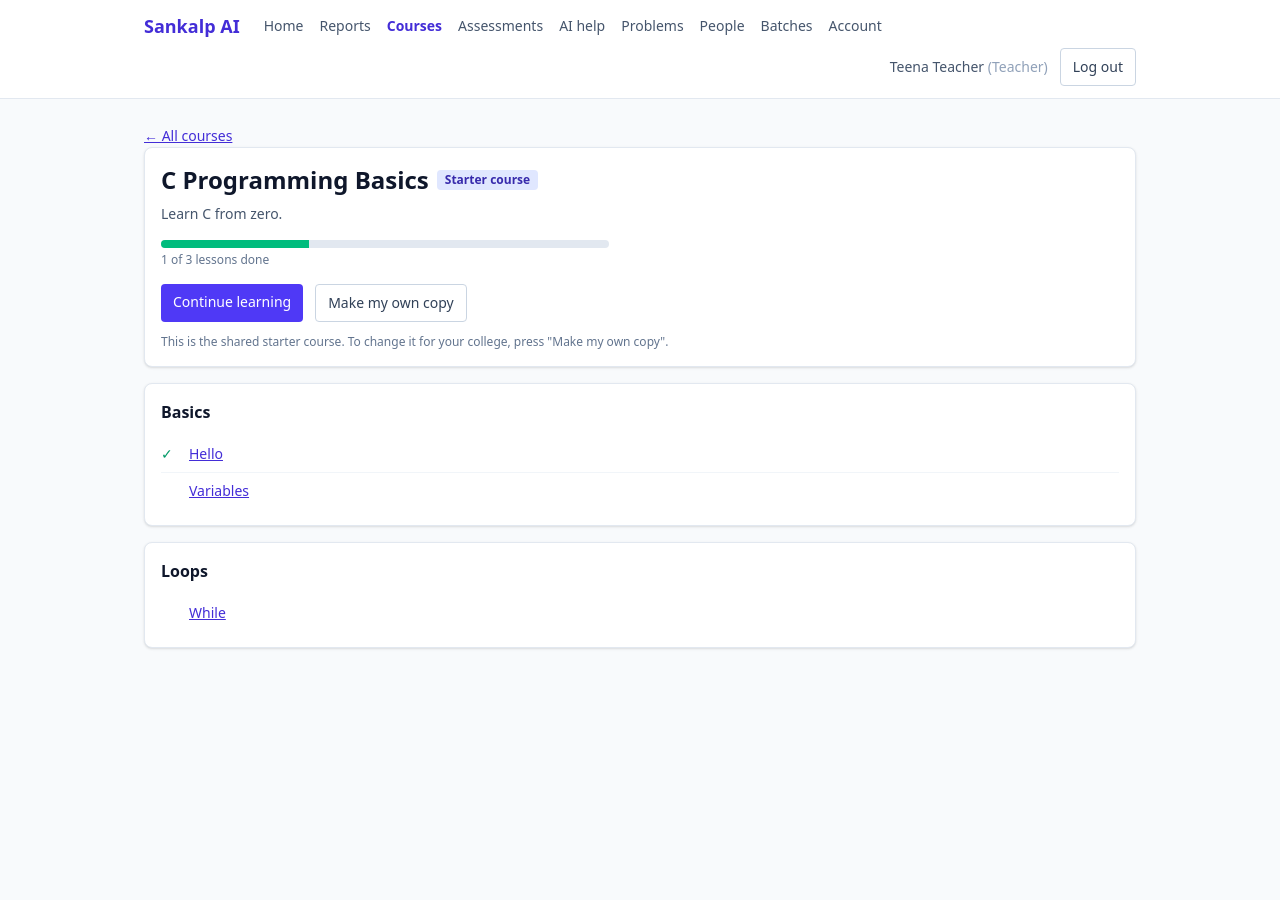
Test: course page › a teacher can copy the shared course and lands in the editor of the copy
Expected: the text "shared starter course" is shown, x1=161 y1=333 x2=668 y2=350
What coordinates should you click on to do the following:
click the button "Make my own copy"
I would click on:
 (391, 303)
Its box is x1=315 y1=284 x2=467 y2=322.
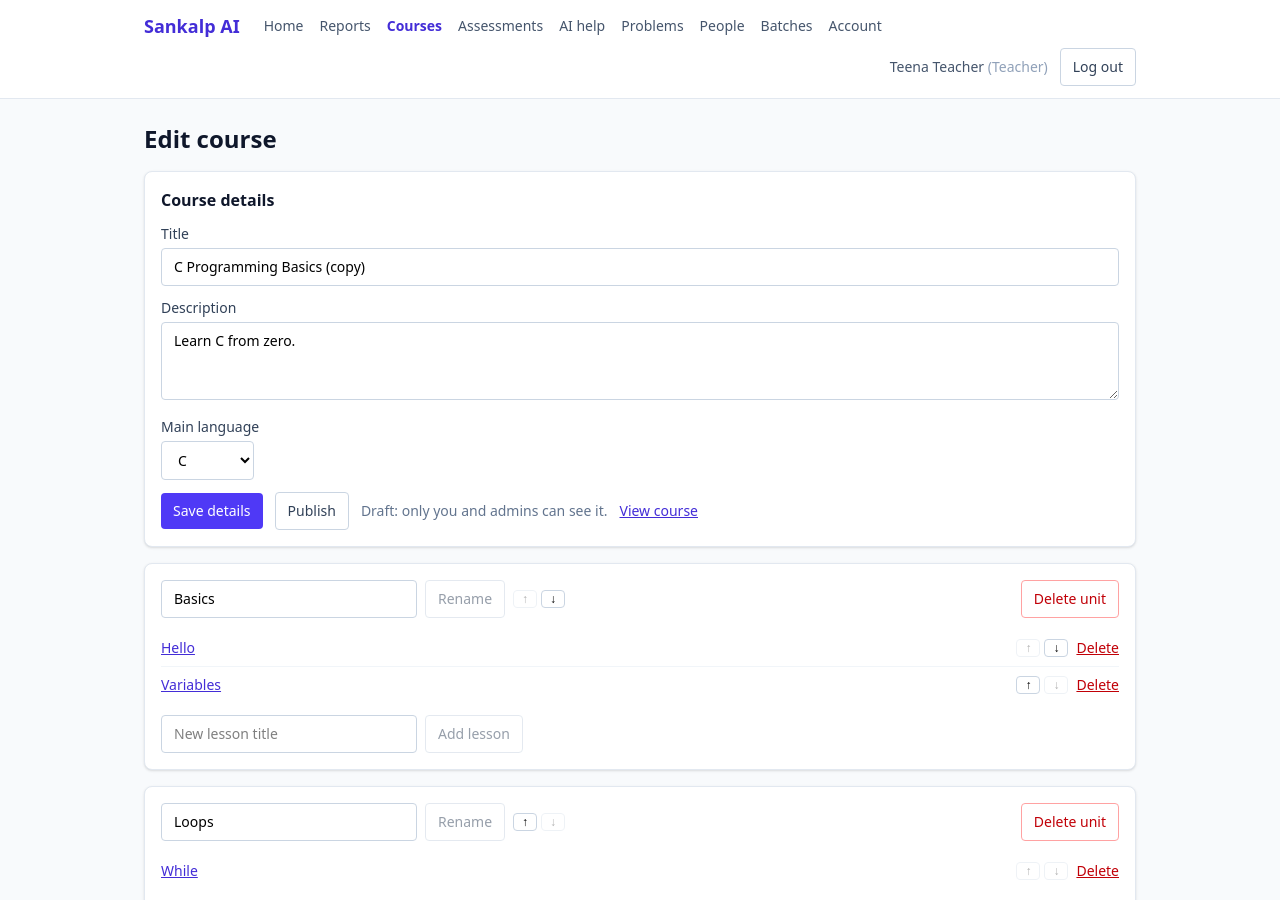
Expected: the heading "Edit course" is shown, x1=144 y1=122 x2=277 y2=155
Expected: the field labelled "Title" holds "C Programming Basics (copy)", x1=161 y1=248 x2=1119 y2=286
